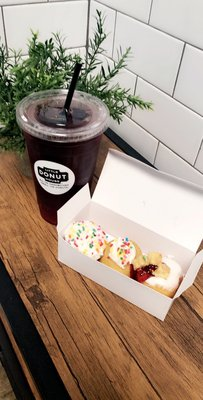salad: (132, 251, 181, 298), (64, 219, 108, 262)
